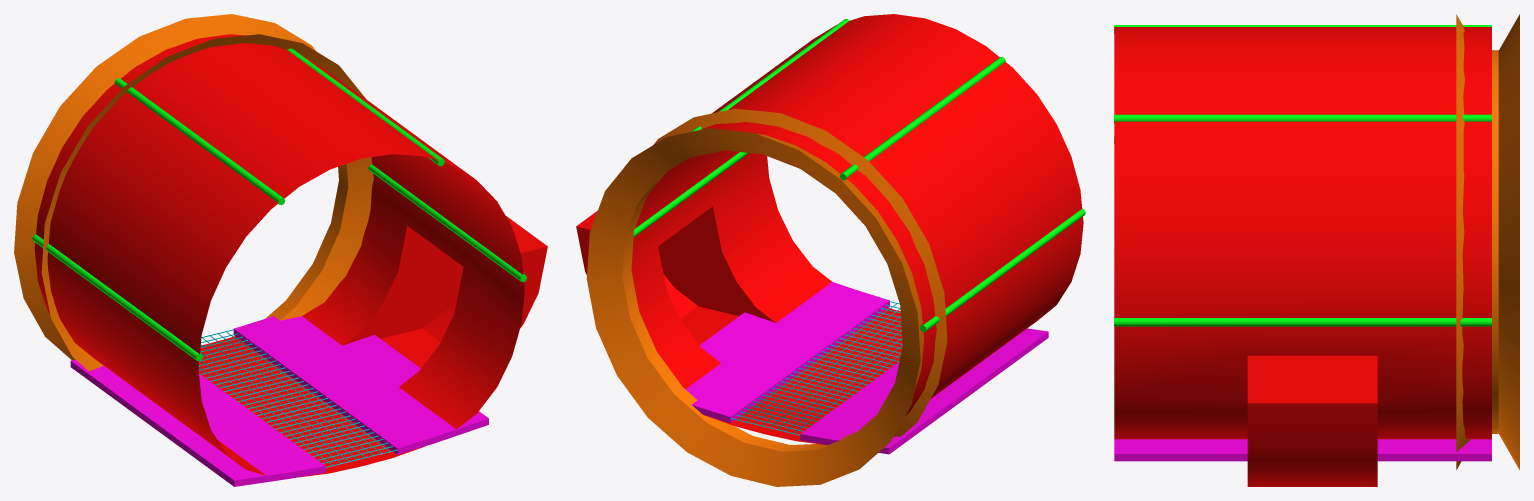
The picture shows the model from 3 angles, left to right: view 1: azimuth 30°, elevation 25°; view 2: azimuth 150°, elevation 25°; view 3: azimuth 270°, elevation 25°; orthographic projection. The views are drawn at different scales.
Parts seen in each view (by area): view 1: Tube001; view 2: Tube001; view 3: Tube001.
Boxes of the visible parts, box(x1,y1,x2,y2) form: Tube001: box(14, 14, 547, 486); Tube001: box(576, 14, 1085, 486); Tube001: box(1114, 14, 1519, 486).
Size of the model in its own units: 344 by 284 by 252.
